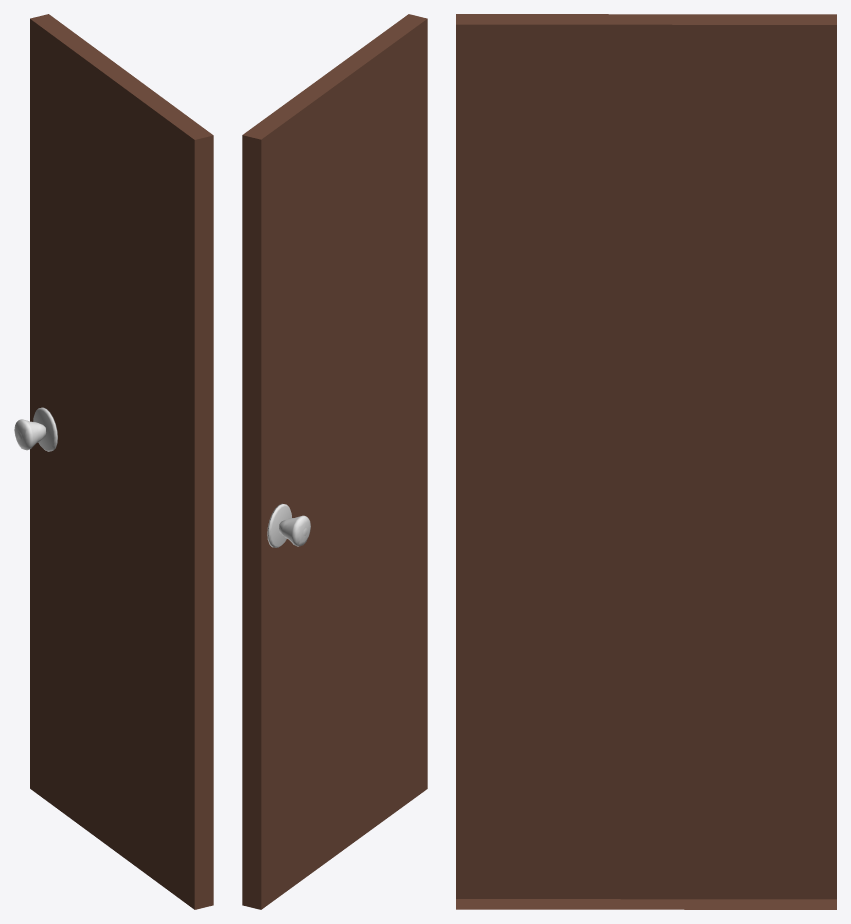
File: Porte.fbx
The picture shows the model from 3 angles, left to right: view 1: azimuth 30°, elevation 25°; view 2: azimuth 150°, elevation 25°; view 3: azimuth 270°, elevation 25°; orthographic projection. The views are drawn at different scales.
Visible parts, largest first — view 1: PortePrincipale, pCube3, pCylinder1; view 2: PortePrincipale, pCube3, pCylinder1; view 3: PortePrincipale.
Boxes of the visible parts, x1,y1,x2,y2 form: PortePrincipale: (30, 14, 213, 909); pCube3: (14, 419, 45, 450); pCylinder1: (33, 407, 57, 451); PortePrincipale: (242, 14, 427, 909); pCube3: (279, 515, 310, 546); pCylinder1: (267, 503, 291, 547); PortePrincipale: (456, 14, 836, 909).
Size of the model in its own units: 0.1286 by 2.05 by 0.7998.
